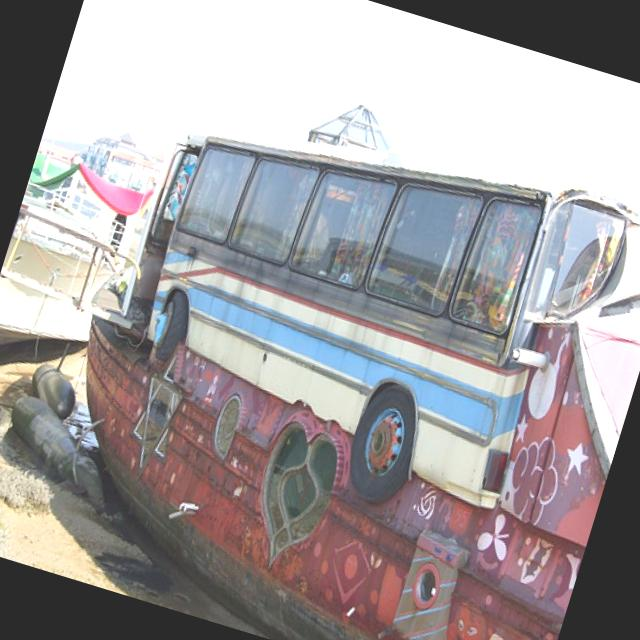Vehicle: (61, 53, 640, 553)
